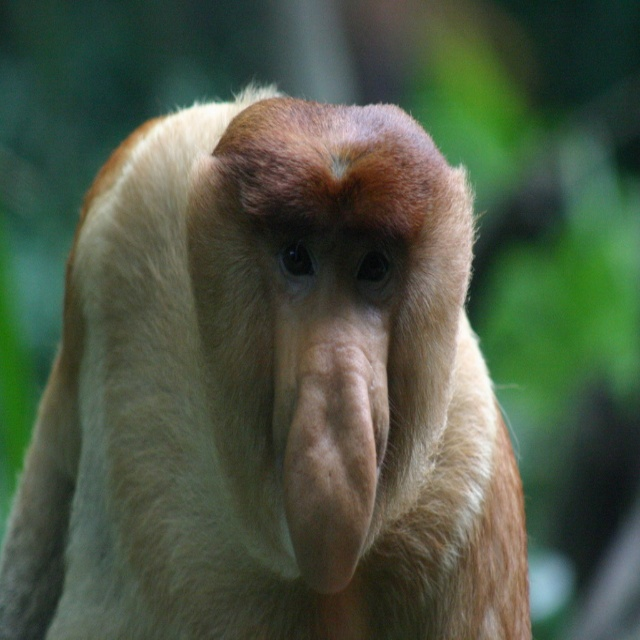Monkey: (0, 79, 532, 640)
